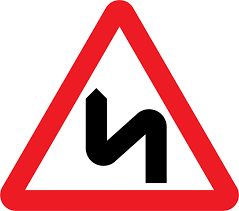Double_bend_left: (1, 1, 238, 211)
